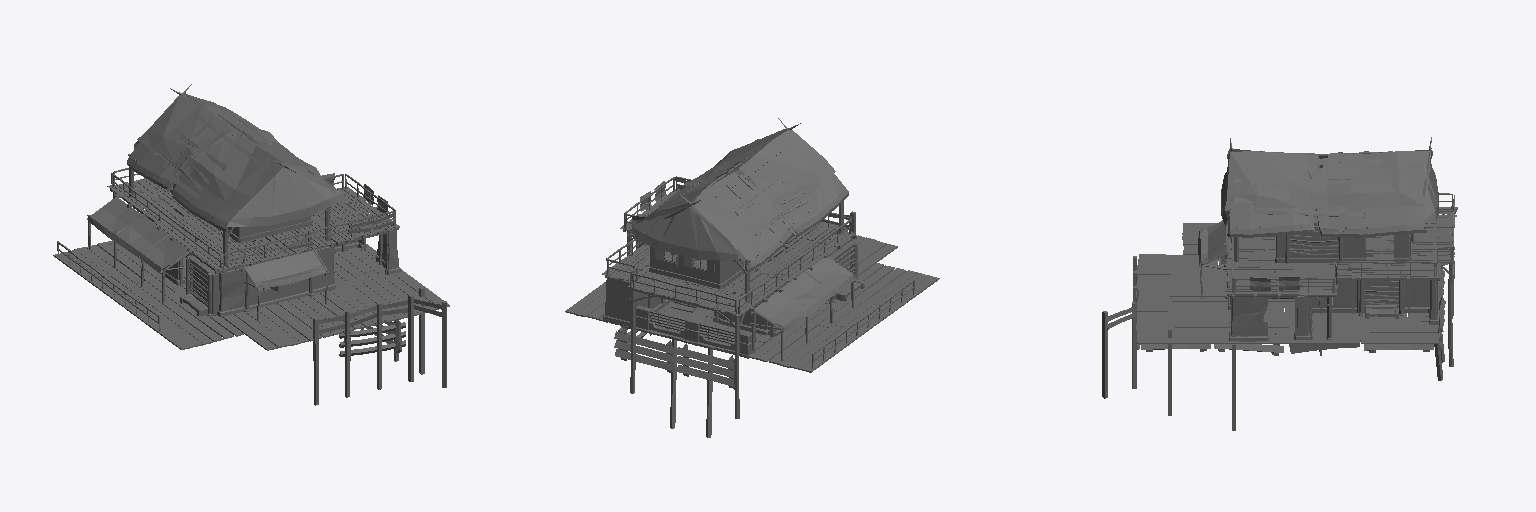
The picture shows the model from 3 angles: view 1: azimuth 30°, elevation 25°; view 2: azimuth 150°, elevation 25°; view 3: azimuth 270°, elevation 25°; orthographic projection.
Visible parts, largest first — view 1: 4f5ebd221, 734ed7bf, [number redacted]c, 247cc174, 258752c4, 4f5ebd220, 050239f8; view 2: 4f5ebd221, 734ed7bf, [number redacted]c, 4f5ebd220, 247cc174, 4f5ebd22, 050239f8; view 3: 4f5ebd221, 734ed7bf, [number redacted]c, 4f5ebd220, 247cc174, 050239f8, d18d6e1f.
Part boxes in pixels (x1,y1,x2,y2): 4f5ebd221: (53, 84, 449, 350); 734ed7bf: (88, 93, 349, 288); [number redacted]c: (146, 184, 398, 315); 247cc174: (313, 287, 446, 405); 258752c4: (280, 212, 441, 333); 4f5ebd220: (339, 321, 405, 360); 050239f8: (165, 204, 400, 316); 4f5ebd221: (565, 118, 939, 418); 734ed7bf: (627, 129, 855, 331); [number redacted]c: (605, 229, 864, 358); 4f5ebd220: (614, 327, 733, 388); 247cc174: (670, 211, 855, 437); 4f5ebd22: (650, 311, 734, 344); 050239f8: (603, 261, 837, 335); 4f5ebd221: (1135, 137, 1457, 366); 734ed7bf: (1198, 149, 1438, 264); [number redacted]c: (1230, 224, 1437, 336); 4f5ebd220: (1137, 268, 1445, 355); 247cc174: (1102, 256, 1444, 430); 050239f8: (1224, 252, 1438, 341); d18d6e1f: (1250, 263, 1337, 290).
Size of the model in its own units: 4.14 by 3.76 by 5.18.